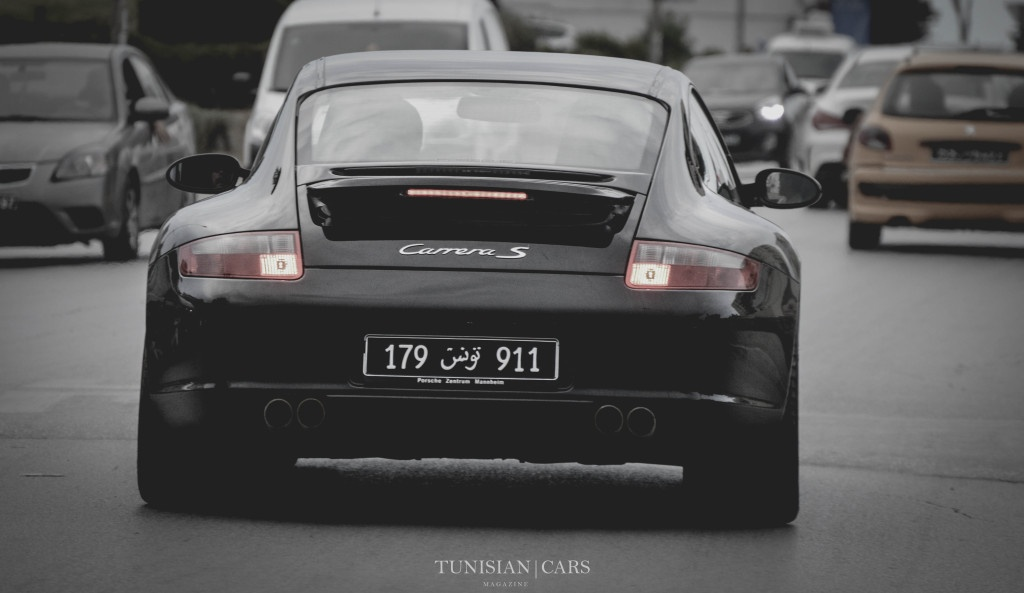LP: (357, 331, 568, 386)
